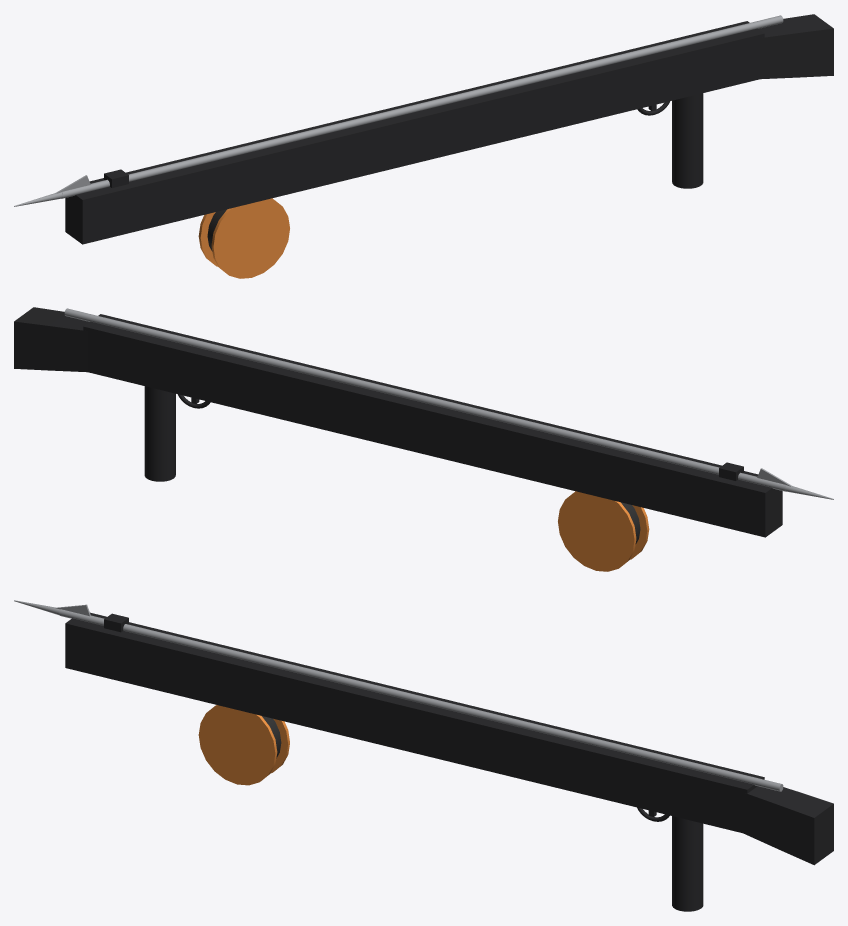
The model's file is harpoon_gun.glb.
3 renders of one model, top to bottom at view 1: azimuth 30°, elevation 25°; view 2: azimuth 150°, elevation 25°; view 3: azimuth 330°, elevation 25°, orthographic.
Parts seen in each view (by area): view 1: body_rail, harpoon, line_spool, stock, pistol_grip; view 2: body_rail, harpoon, line_spool, stock, pistol_grip; view 3: body_rail, harpoon, stock, line_spool, pistol_grip.
Part boxes in pixels (x1,y1,x2,y2): body_rail: (65, 21, 764, 244); harpoon: (14, 15, 783, 206); line_spool: (198, 198, 289, 278); stock: (759, 14, 833, 79); pistol_grip: (672, 93, 703, 188); body_rail: (83, 314, 782, 537); harpoon: (64, 308, 833, 499); line_spool: (558, 491, 649, 571); stock: (14, 307, 88, 372); pistol_grip: (144, 386, 175, 481); body_rail: (65, 612, 764, 833); harpoon: (14, 600, 783, 791); stock: (743, 786, 833, 865); line_spool: (198, 705, 289, 785); pistol_grip: (672, 816, 703, 911).
Size of the model in its own units: 0.95 by 0.172 by 0.04.
